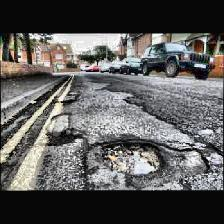pothole: (99, 140, 166, 176)
